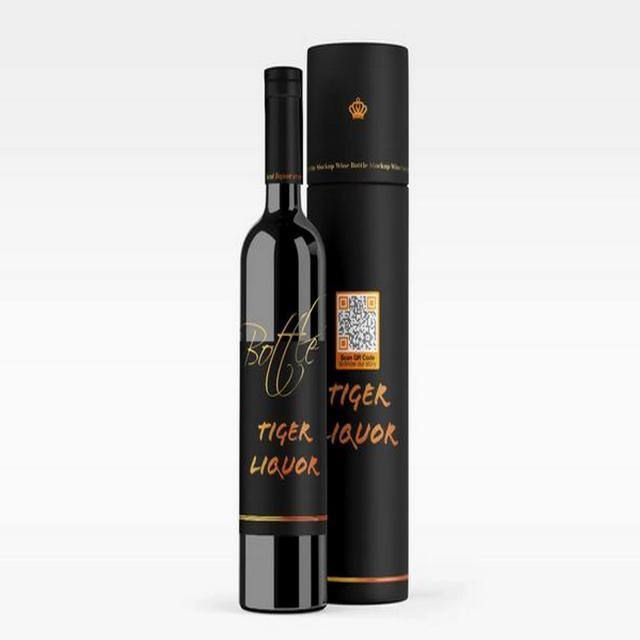qr_code: (338, 296, 377, 351)
